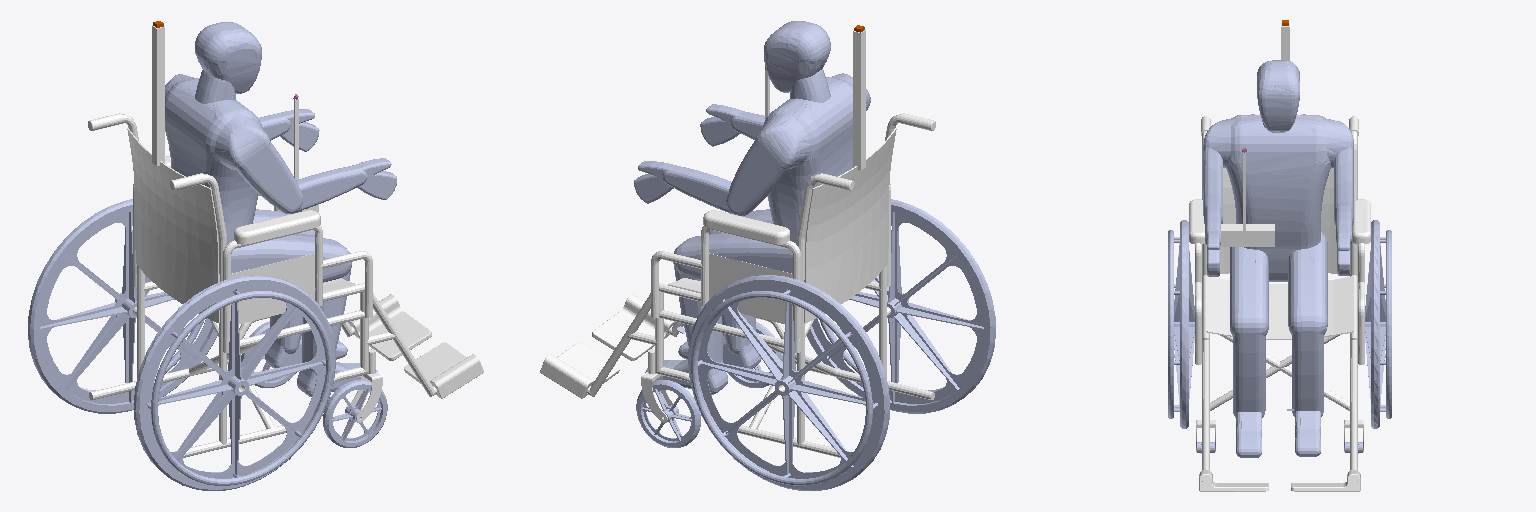
URDF robot description (wheeldiffdrive):
<?xml version="1.0" encoding="utf-8"?>
<robot name="wheeldiffdrive">


<!--                    DEFINING MATERIALS   -->
  <material name="blue">
    <color rgba="0 0 1 1"/>
  </material>

  <material name="white">
    <color rgba="1 1 1 1"/>
  </material>
<material name="red">
    <color rgba=" 0.5 0.2 0.8 1"/>
  </material>

<!--Defining the robot-->
<!--                      BASE LINK            -->
    <link
    name="base_link">
    <inertial>
      <origin
        xyz="0.215897452397763 -0.466115278224488 -0.406633769007423"
        rpy="0 0 0" />
      <mass
        value="1.16212370053717" />
      <inertia
        ixx="0.308297541964297"
        ixy="-3.58520428121968E-07"
        ixz="4.87684354694172E-06"
        iyy="0.323504290432657"
        iyz="-0.0485683019754604"
        izz="0.281374166804536" />
    </inertial>
    <visual>
      <origin
        xyz="0 0 0"
        rpy="0 0 -1.570796" />
      <geometry>
        <mesh
          filename="package://project_ws/meshes/chair_link.STL" />
      </geometry>
      <material
        name="">
        <color
          rgba="1 1 1 1" />
      </material>
    </visual>
    <collision>
      <origin
        xyz="0 0 0"
        rpy="0 0 0" />
      <geometry>
        <mesh
          filename="package://project_ws/meshes/chair_link.STL" />
      </geometry>
    </collision>
  </link>
    <gazebo reference="base_link">
    <material>Gazebo/Blue</material>
  </gazebo>

    
<!--                    RIGHT FRONT WHEEL                       -->
    <link
    name="right_front_wheel">
    <inertial>
      <origin
        xyz="3.68982622234171E-13 0 0"
        rpy="0 0 0" />
      <mass
        value="4.09127347260337" />
      <inertia
        ixx="0.00171792777524043"
        ixy="2.83050865876848E-20"
        ixz="-1.13478840286474E-19"
        iyy="0.000880037934920852"
        iyz="2.19202862326551E-20"
        izz="0.000880037934920852" />
    </inertial>
    <visual>
      <origin
        xyz="0 0 0"
        rpy="0 0 0" />
      <geometry>
        <mesh
          filename="package://project_ws/meshes/right_front_wheel_link.STL" />
      </geometry>
      <material
        name="">
        <color
          rgba="0.796078431372549 0.823529411764706 0.937254901960784 1" />
      </material>
    </visual>
    <collision>
      <origin
        xyz="0 0 0"
        rpy="0 0 0" />
      <geometry>
        <mesh
          filename="package://project_ws/meshes/right_front_wheel_link.STL" />
      </geometry>
    </collision>
  </link>
    <gazebo reference="right_front_wheel">
    <material>Gazebo/White</material>
  </gazebo>
  
               <!--           JOINT BASE TO RIGHT FRONT WHEEL  -->
      <joint name="joint_base_to_right_front_wheel" type="continuous">
    <origin
      xyz="0.55563 -0.4318 -0.79375"
      rpy="0 0 1.570796" /><!--0.4318 0.55563-->
    <axis xyz="1 0 0" rpy="0 0 0" />  
    <parent link="base_link"/>
    <child link="right_front_wheel"/>
    </joint>
    
    <!--                    LEFT FRONT WHEEL                       -->
    <link
    name="left_front_wheel">
    <inertial>
      <origin
        xyz="3.68919128075658E-13 1.11022302462516E-16 -1.11022302462516E-16"
        rpy="0 0 0" />
      <mass
        value="4.09127347260337" />
      <inertia
        ixx="0.00171792777524043"
        ixy="-3.04628631784685E-20"
        ixz="-4.66323070387447E-20"
        iyy="0.000880037934920854"
        iyz="-9.93650710829319E-20"
        izz="0.000880037934920854" />
    </inertial>
    <visual>
      <origin
        xyz="0 0 0"
        rpy="0 0 0" />
      <geometry>
        <mesh
          filename="package://project_ws/meshes/left_front_wheel_link.STL" />
      </geometry>
      <material
        name="">
        <color
          rgba="0.796078431372549 0.823529411764706 0.937254901960784 1" />
      </material>
    </visual>
    <collision>
      <origin
        xyz="0 0 0"
        rpy="0 0 0" />
      <geometry>
        <mesh
          filename="package://project_ws/meshes/left_front_wheel_link.STL" />
      </geometry>
    </collision>
  </link>
    <gazebo reference="left_front_wheel">
    <material>Gazebo/White</material>
    </gazebo>
    
          <!--           JOINT BASE TO LEFT FRONT WHEEL  -->

    <joint name="joint_base_to_left_front_wheel" type="continuous">
    <origin
      xyz="0.55563 0 -0.79375"
      rpy="0 0 1.570796" />
    <axis xyz="1 0 0" rpy="0 0 0" />  
    <parent link="base_link"/>
    <child link="left_front_wheel"/>
    </joint>    


    <!--                    RIGHT BACK WHEEL                       -->
    <link
    name="right_back_wheel">
    <inertial>
      <origin
        xyz="0.0469427212195542 0 5.55111512312578E-17"
        rpy="0 0 0" />
      <mass
        value="4.09127347260337" />
      <inertia
        ixx="0.141718020445608"
        ixy="2.73584332854114E-18"
        ixz="-4.77994102978222E-18"
        iyy="0.0710324578470619"
        iyz="2.49366499671666E-17"
        izz="0.0710324578470619" />
    </inertial>
    <visual>
      <origin
        xyz="0 0 0"
        rpy="0 0 0" />
      <geometry>
        <mesh
          filename="package://project_ws/meshes/right_back_wheel_link.STL" />
      </geometry>
      <material
        name="">
        <color
          rgba="0.796078431372549 0.823529411764706 0.937254901960784 1" />
      </material>
    </visual>
    <collision>
      <origin
        xyz="0 0 0"
        rpy="0 0 0" />
      <geometry>
        <mesh
          filename="package://project_ws/meshes/right_back_wheel_link.STL" />
      </geometry>
    </collision>
  </link>
    <gazebo reference="right_back_wheel">
    <material>Gazebo/White</material>
  </gazebo>
  
          <!--           JOINT BASE TO RIGHT BACK WHEEL  -->
    <joint name="joint_base_to_right_back_wheel" type="continuous">
    <origin
      xyz="0.1524 -0.4572 -0.5842"
      rpy="0 0 -1.570796" />
    <axis xyz="-1 0 0"  rpy="0 0 0"/>  
    <parent link="base_link"/> 
    <child link="right_back_wheel"/>
    </joint>

   <!--                    LEFT BACK WHEEL                       -->
    <link
    name="left_back_wheel">
    <inertial>
      <origin
        xyz="0.0469427212195542 5.55111512312578E-17 0"
        rpy="0 0 0" />
      <mass
        value="4.09127347260337" />
      <inertia
        ixx="0.141718020445608"
        ixy="-7.69093859733278E-19"
        ixz="-3.91372571951635E-18"
        iyy="0.0710324578470619"
        iyz="-4.85722573273506E-17"
        izz="0.071032457847062" />
    </inertial>
    <visual>
      <origin
        xyz="0 0 0"
        rpy="0 0 0" />
      <geometry>
        <mesh
          filename="package://project_ws/meshes/left_back_wheel_link.STL" />
      </geometry>
      <material
        name="">
        <color
          rgba="0.796078431372549 0.823529411764706 0.937254901960784 1" />
      </material>
    </visual>
    <collision>
      <origin
        xyz="0 0 0"
        rpy="0 0 0" />
      <geometry>
        <mesh
          filename="package://project_ws/meshes/left_back_wheel_link.STL" />
      </geometry>
    </collision>
  </link>
  <gazebo reference="left_back_wheel">
    <material>Gazebo/White</material>
  </gazebo>

      <!--           JOINT BASE TO LEFT BACK WHEEL    -->
    <joint name="joint_base_to_left_back_wheel" type="continuous">
    <origin
      xyz="0.1524 0.0254 -0.5842"
      rpy="0 0 1.570796" />
    <axis xyz="1 0 0" rpy="0 0 0" />  
    <parent link="base_link"/>
    <child link="left_back_wheel"/>
    </joint>
 
         <!--                    LASER LINK                       -->
    
  <link name="laser_link">
     <inertial>
      <mass value="0.1"/>
     <inertia ixx="1"  ixy="0"  ixz="0" iyy="1" iyz="0" izz="1" />
   </inertial>

   <visual>
     
     <geometry>
       <box   size= "0.02 0.02 0.02"/>
     </geometry>
     <material name="green">
     </material>
   </visual>

   <collision>
     
     <geometry>
       <box   size= "0.02 0.02 0.02"/>
     </geometry>
   </collision>
    </link>
    
    <gazebo reference="laser_link">
    <material>Gazebo/Red</material>
  </gazebo>

                    <!--                    JOINT TO LASER                       -->

  <joint name="joint_base_to_laser_link" type="fixed">
    <origin xyz="0.09 -0.2 0.35" rpy ="0 0 0 "/>
    <parent link="base_link"/>
    <child link="laser_link"/>
    </joint>

          <!--                    CAMERA LINK                     -->
    <link name="camera_link">
     <inertial>
      <mass value="0.1"/>
     <inertia ixx="1"  ixy="0"  ixz="0" iyy="1" iyz="0" izz="1" />
   </inertial>

   <visual>
     
     <geometry>
       <box   size= "0.01 0.01 0.01"/>
     </geometry>
     <material name="green">
     </material>
   </visual>

   <collision>
     
     <geometry>
       <box   size= "0.01 0.01 0.01"/>
     </geometry>
   </collision>
    </link>

    <gazebo reference="camera_link">
    <material>Gazebo/Red</material>
  </gazebo>


      <!--           JOINT BASE TO CAMERA    -->
    <joint name="joint_base_to_camera_link" type="fixed">
    <origin xyz="0.44 -0.32 0.11" rpy ="0 -0.42 -3.92699"/>
    <parent link="base_link"/>
    <child link="camera_link"/>
    </joint>

                      <!--       MAN LINK        -->
  <link
    name="man_sitting_link">
    <inertial>
      <origin
        xyz="-3.179E-05 -0.11481 -0.1411"
        rpy="0 0 0" />
      <mass
        value="1" />
      <inertia
        ixx="13.785"
        ixy="-0.012446"
        ixz="-0.0029163"
        iyy="12.533"
        iyz="3.4808"
        izz="4.9919" />
    </inertial>
    <visual>
      <origin
        xyz="0 0 0"
        rpy="1.5707963267949 0 0" />
      <geometry>
        <mesh
          filename="package://project_ws/meshes/Man_Sitting.STL" />
      </geometry>
      <material
        name="">
        <color
          rgba="0.79216 0.81961 0.93333 1" />
      </material>
    </visual>
    <collision>
      <origin
        xyz="0 0 0"
        rpy="1.5707963267949 0 0" />
      <geometry>
        <mesh
          filename="package://project_ws/meshes/Man_Sitting.STL" />
      </geometry>
    </collision>
  </link>
  <gazebo reference="man_sitting">
    <material>Gazebo/Pink</material>
  </gazebo>

                 <!--     JOINT MAN          -->

  <joint name="man_sitting_joint" type="fixed">
    <parent link="base_link"/>
    <child link="man_sitting_link"/>
    <origin xyz="0.22 -0.22 -0.07" rpy ="0 0 -4.712 "/>
  </joint>


                 <!--       LASER HOLDER        -->

    <link name="laser_holder">
    <visual>
      <geometry>
        <box size="0.4 0.025 0.025"/>
      </geometry>
      <origin rpy="0 1.57075 0" xyz="0 0 -0.3"/>
      <material name="white"/>
    </visual>
    <collision>
      <geometry>
        <box size="0.4 0.025 0.025"/>
      </geometry>
      <origin rpy="0 1.57075 0" xyz="0 0 -0.3"/>
    </collision>
    <inertial>
      <mass value="0.01"/>
      <inertia ixx="1.0" ixy="0.0" ixz="0.0" iyy="1.0" iyz="0.0" izz="1.0"/>
    </inertial>
  </link>
  <gazebo reference="laser_holder">
    <material>Gazebo/Blue</material>
  </gazebo>

     <!--     JOINT BASE TO LASER HOLDER         -->

  <joint name="laser_holder_joint" type="fixed">
    <parent link="base_link"/>
    <child link="laser_holder"/>
    <origin xyz="0.09 -0.2 0.45" rpy ="0 0 -1.570796"/>
  </joint>

     <!--       CAMERA HOLDER        -->
    <link name="camera_holder">
    <visual>
      <geometry>
        <box size="0.2 0.05 0.05"/>
      </geometry>
      <material name="white"/>
    </visual>
    <collision>
      <geometry>
        <box size="0.2 0.05 0.05"/>
      </geometry>
    </collision>
    <inertial>
      <mass value="0.01"/>
      <inertia ixx="1.0" ixy="0.0" ixz="0.0" iyy="1.0" iyz="0.0" izz="1.0"/>
    </inertial>
  </link>
  <gazebo reference="camera_holder">
    <material>Gazebo/Blue</material>
  </gazebo>

          <!--     JOINT BASE TO CAMERA HOLDER         -->
  
  <joint name="camera_holder_joint" type="fixed">
    <parent link="base_link"/>
    <child link="camera_holder"/>
    <origin xyz="0.42 -0.33 -0.17375" rpy ="0 0 -1.570796"/>
  </joint>

         <!--       CAMERA HOLDER 2        -->

    <link name="camera_holder_two">
    <visual>
      <geometry>
        <box size="0.30 0.01 0.01"/>
      </geometry>
      <origin rpy="0 1.57075 0" xyz="0 0 -0.3"/>
      <material name="white"/>
    </visual>
    <collision>
      <geometry>
        <box size="0.30 0.01 0.01"/>
      </geometry>
      <origin rpy="0 1.57075 0" xyz="0 0 -0.3"/>
    </collision>
    <inertial>
      <mass value="0.01"/>
      <inertia ixx="1.0" ixy="0.0" ixz="0.0" iyy="1.0" iyz="0.0" izz="1.0"/>
    </inertial>
  </link>
  <gazebo reference="camera_holder_two">
    <material>Gazebo/Blue</material>
  </gazebo>

       <!--     JOINT BASE TO CAMERA HOLDER 2         -->

  <joint name="camera_holder_two_joint" type="fixed">
    <parent link="camera_holder"/>
    <child link="camera_holder_two"/>
    <origin xyz="-0.01 0.020 0.43" rpy ="0 0 -1.570796"/>
  </joint>
     
    
    <!--                       ROS CONTROL      -->
<gazebo>
  <plugin name="skid_steer_drive_controller" filename="libgazebo_ros_skid_steer_drive.so">
    <updateRate>100.0</updateRate>
    <robotNamespace>vehiclediffdrive</robotNamespace> 
    <leftFrontJoint>joint_base_to_left_front_wheel</leftFrontJoint>
    <rightFrontJoint>joint_base_to_right_front_wheel</rightFrontJoint>
    <leftRearJoint>joint_base_to_left_back_wheel</leftRearJoint>
    <rightRearJoint>joint_base_to_right_back_wheel</rightRearJoint>
    <wheelSeparation>0.2</wheelSeparation>
    <wheelDiameter>0.14</wheelDiameter>
    <robotBaseFrame>base_link</robotBaseFrame>
    <torque>20</torque>
    <commandTopic>cmd_vel</commandTopic>
    <broadcastTF>true</broadcastTF>
  </plugin>
</gazebo>

<!--gazebo>
    <plugin name="differential_drive_controller" filename="libgazebo_ros_diff_drive.so">
        <alwaysOn>true</alwaysOn>
        <updateRate>100.0</updateRate>
        <robotNamespace>vehiclediffdrive</robotNamespace>
        <legacyMode>false</legacyMode>
        <leftJoint>joint_base_to_left_back_wheel</leftJoint>
        <rightJoint>joint_base_to_right_back_wheel</rightJoint>
        <wheelSeparation>0.2</wheelSeparation>
        <wheelDiameter>0.14</wheelDiameter>
        <torque>20</torque>
        <commandTopic>cmd_vel</commandTopic>
        <odometryTopic>odom</odometryTopic>
        <odometryFrame>odom</odometryFrame>
        <robotBaseFrame>base_link</robotBaseFrame>
        <publishWheelTF>false</publishWheelTF>
        <publishWheelJointState>true</publishWheelJointState>
        <rosDebugLevel>na</rosDebugLevel>
        <wheelAcceleration>0</wheelAcceleration>
        <wheelTorque>5</wheelTorque>
        <odometrySource>world</odometrySource>
        <publishTf>1</publishTf> 
    </plugin>
</gazebo-->

         <!--                        LASER PLUGIN                  -->

<gazebo reference="laser_link">
    <sensor type="ray" name="head_hokuyo_sensor">
      <pose>0 0 0 0 0 0</pose>
      <visualize>false</visualize>
      <update_rate>40</update_rate>
      <ray>
        <scan>
          <horizontal>
            <samples>720</samples>
            <resolution>1</resolution>
            <min_angle>-1.570796</min_angle>
            <max_angle>1.570796</max_angle>
          </horizontal>
        </scan>
        <range>
          <min>0.10</min>
          <max>5.0</max>
          <resolution>0.01</resolution>
        </range>
        <noise>
          <type>gaussian</type>
         
          <mean>0.0</mean>
          <stddev>0.01</stddev>
        </noise>
      </ray>
      <plugin name="gazebo_ros_head_hokuyo_controller" filename="libgazebo_ros_laser.so">
        <topicName>/vehiclediffdrive/laser/scan</topicName>
        <frameName>laser_link</frameName>
      </plugin>
    </sensor>
  </gazebo>

<!--                    CAMERA  PLUGIN                 -->
      <gazebo reference="camera_link">
      <sensor type="depth" name="camera">       
      <always_on>true</always_on>
      <visualize>true</visualize>             
      <camera>
          <horizontal_fov>1.047</horizontal_fov>
          <image>
              <width>640</width>
              <height>480</height>
              <format>R8G8B8</format>
          </image>
          <depth_camera>

          </depth_camera>
          <clip>
              <near>0.1</near>
              <far>100</far>
          </clip>
      </camera>
      <plugin name="camera_controller" filename="libgazebo_ros_openni_kinect.so">
          <baseline>0.2</baseline>
          <alwaysOn>true</alwaysOn>
              <updateRate>10.0</updateRate>
              <cameraName>camera</cameraName>
              <frameName>camera_link</frameName>                   
          <imageTopicName>rgb/image_raw</imageTopicName>
          <depthImageTopicName>depth/image_raw</depthImageTopicName>
          <pointCloudTopicName>depth/points</pointCloudTopicName>
          <cameraInfoTopicName>rgb/camera_info</cameraInfoTopicName>              
          <depthImageCameraInfoTopicName>depth/camera_info</depthImageCameraInfoTopicName>            
          <pointCloudCutoff>0.4</pointCloudCutoff>                
              <hackBaseline>0.07</hackBaseline>
              <distortionK1>0.0</distortionK1>
              <distortionK2>0.0</distortionK2>
              <distortionK3>0.0</distortionK3>
              <distortionT1>0.0</distortionT1>
              <distortionT2>0.0</distortionT2>
          <CxPrime>0.0</CxPrime>
          <Cx>0.0</Cx>
          <Cy>0.0</Cy>
          <focalLength>0.0</focalLength>
          </plugin>
    </sensor>
  </gazebo>

</robot>

--- Render facts (derived) ---
Views: 3 orthographic renders of the robot side by side, from view 1: azimuth 30°, elevation 25°; view 2: azimuth 150°, elevation 25°; view 3: azimuth 270°, elevation 25°.
Model wheeldiffdrive with 11 links and 10 joints (4 continuous, 6 fixed), rooted at base_link, posed every joint at zero.
Links seen in each view (by area): view 1: base_link, man_sitting_link, right_back_wheel, left_back_wheel, right_front_wheel, laser_holder; view 2: base_link, man_sitting_link, left_back_wheel, right_back_wheel, left_front_wheel, laser_holder; view 3: man_sitting_link, base_link, right_back_wheel, left_back_wheel, camera_holder.
Boxes of the visible links, box(x1,y1,x2,y2) form: base_link: box(88, 113, 483, 457); man_sitting_link: box(165, 22, 396, 396); right_back_wheel: box(134, 275, 335, 490); left_back_wheel: box(28, 199, 217, 413); right_front_wheel: box(323, 380, 387, 447); laser_holder: box(152, 25, 164, 165); base_link: box(540, 113, 935, 457); man_sitting_link: box(634, 21, 870, 394); left_back_wheel: box(688, 275, 889, 490); right_back_wheel: box(806, 199, 995, 413); left_front_wheel: box(636, 380, 700, 447); laser_holder: box(853, 30, 865, 170); man_sitting_link: box(1203, 60, 1353, 457); base_link: box(1189, 116, 1370, 491); right_back_wheel: box(1168, 220, 1194, 428); left_back_wheel: box(1365, 220, 1391, 428); camera_holder: box(1220, 224, 1274, 246).
Bounding box of the posed robot: 1.09 × 0.6541 × 1.25 m (x, y, z).
6 mesh visuals loaded from 6 distinct referenced files (6 binary STL).
